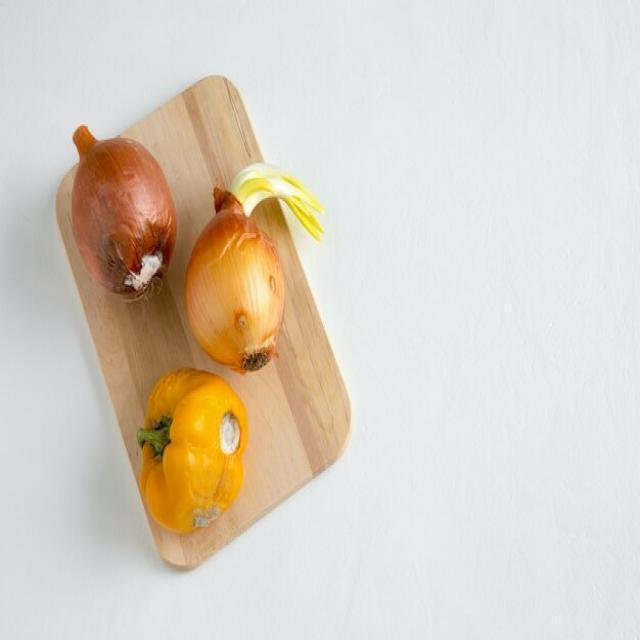Onion: (182, 185, 286, 376), (68, 124, 174, 300), (232, 163, 326, 245)
